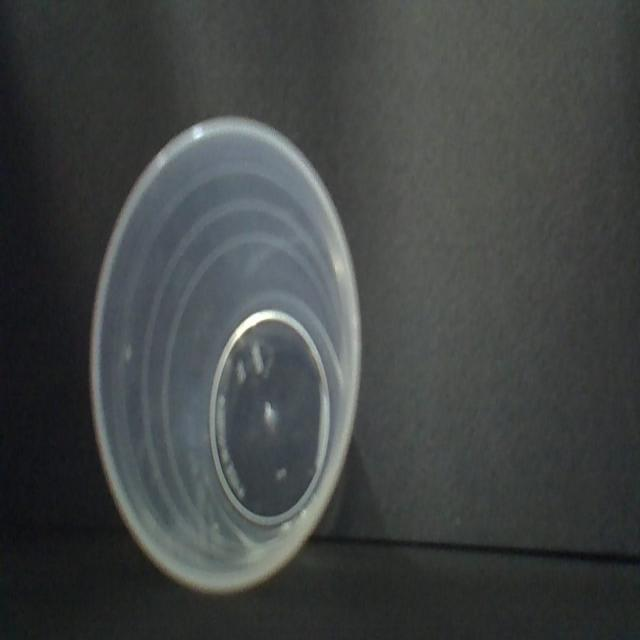cup: (87, 109, 367, 606)
